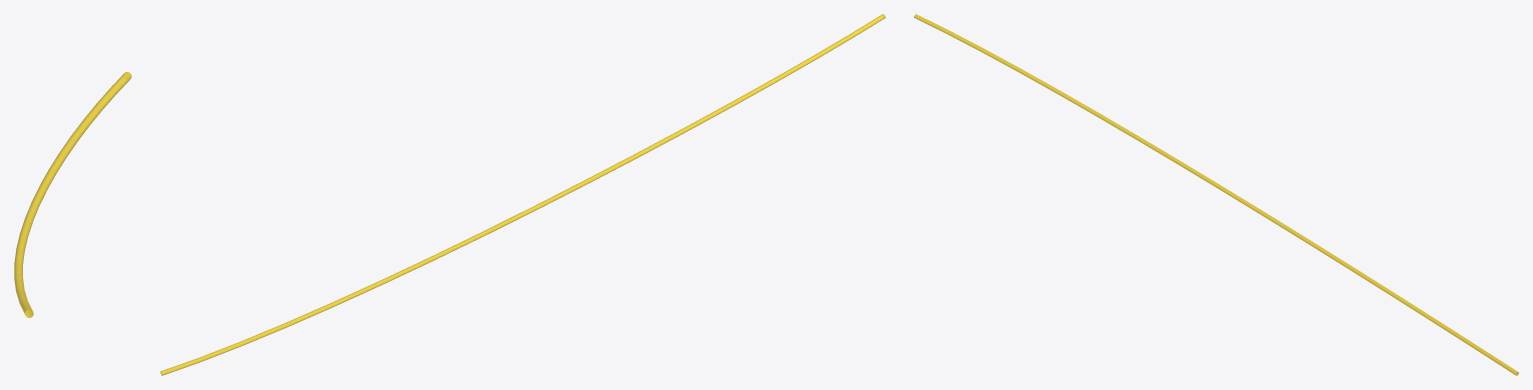
The model's file is Event_84804159_track_26.fbx.
The picture shows the model from 3 angles, left to right: view 1: azimuth 90°, elevation 25°; view 2: azimuth 210°, elevation 25°; view 3: azimuth 330°, elevation 25°; orthographic projection. The views are drawn at different scales.
Parts seen in each view (by area): view 1: Model; view 2: Model; view 3: Model.
Part boxes in pixels (box(x1,y1,x2,y2)): Model: box(14, 72, 131, 317); Model: box(160, 14, 885, 375); Model: box(914, 14, 1518, 375).
Bounding box in the file's own units: 6.62 × 1.92 × 0.5363.
